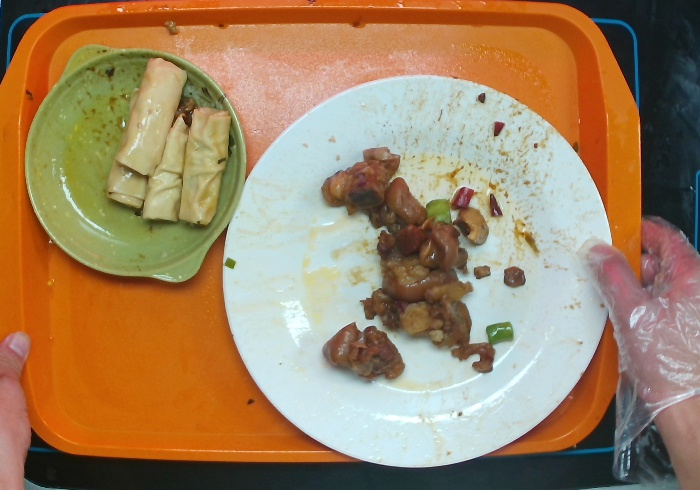NLDX-Da_Yuan_Pan: (219, 66, 619, 472)
NLDX-Lv_Hua_Shuang_Er_Die: (17, 41, 250, 293)
